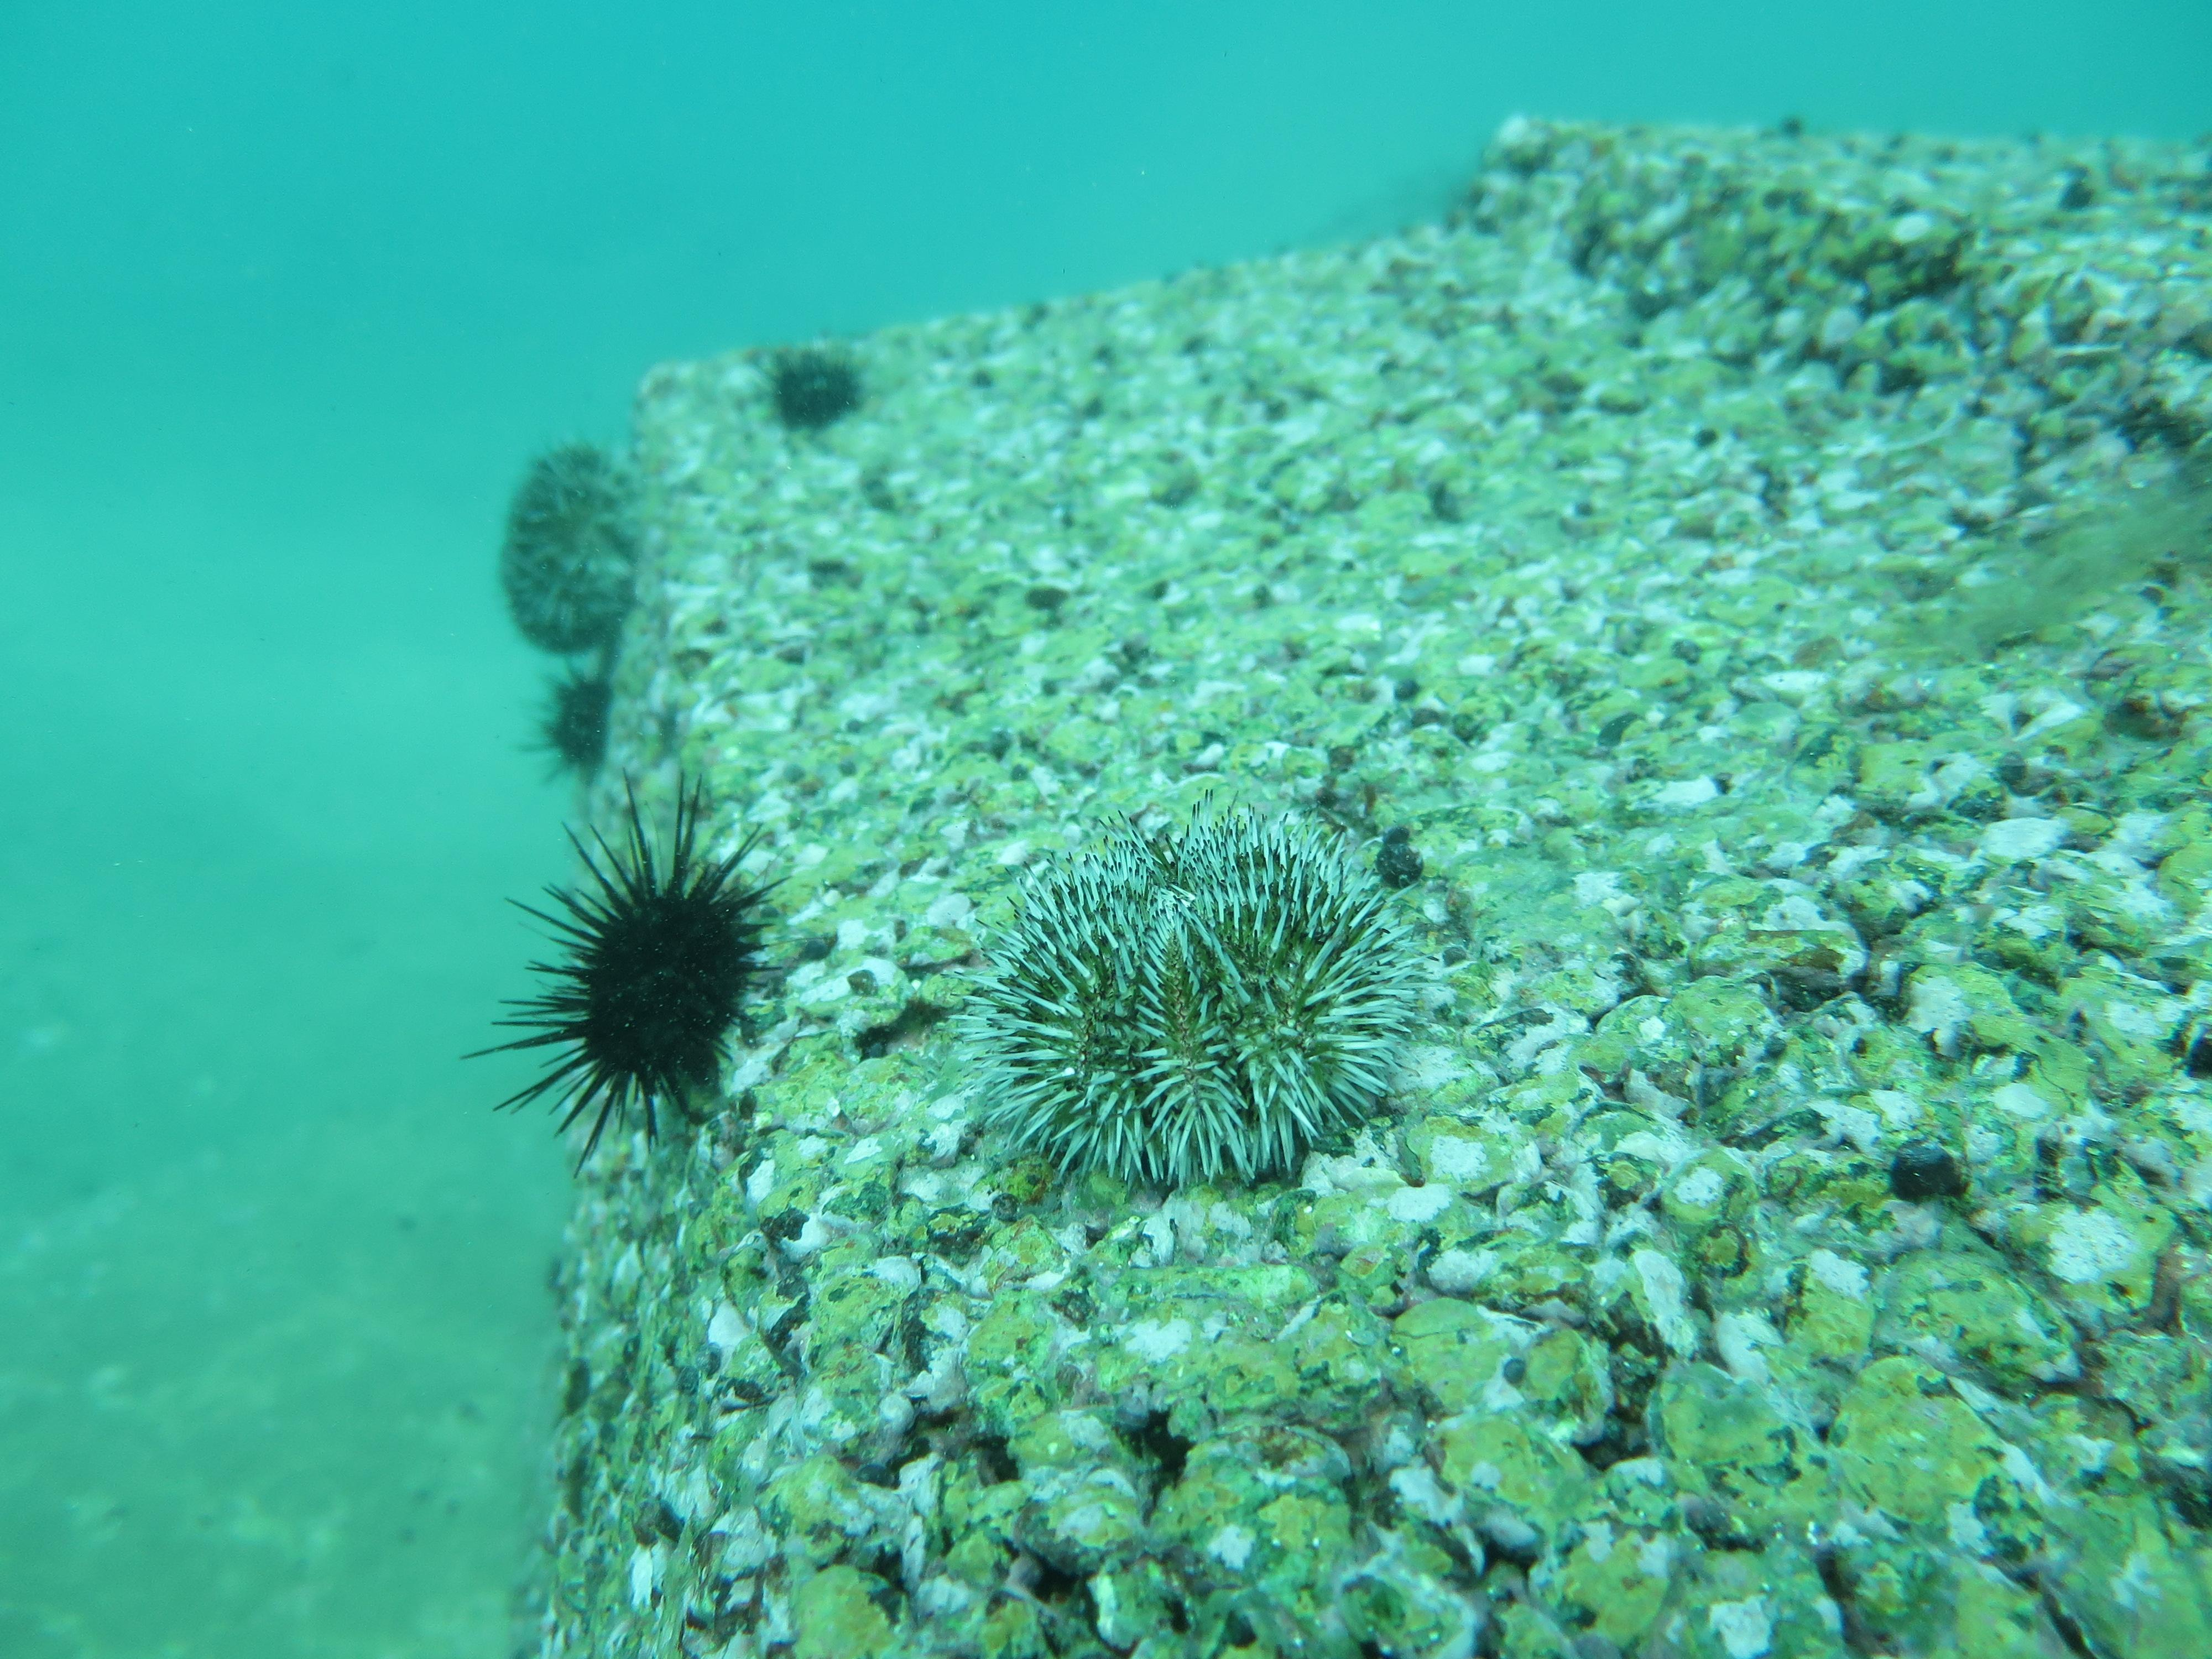urchin: (484, 758, 803, 1175)
